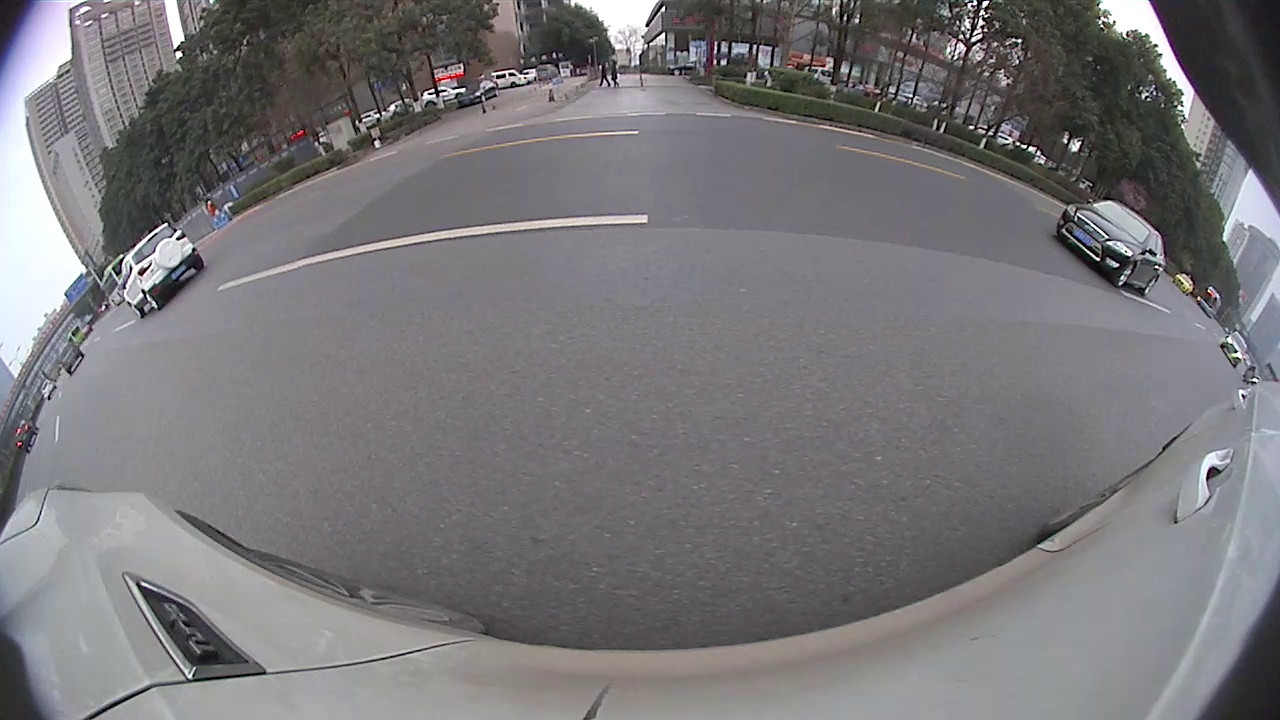car: (1056, 198, 1167, 296), (120, 222, 205, 317), (1220, 331, 1249, 370)
front: (1116, 264, 1136, 288), (129, 304, 143, 316)
rear: (142, 291, 158, 311), (1142, 277, 1158, 295)
